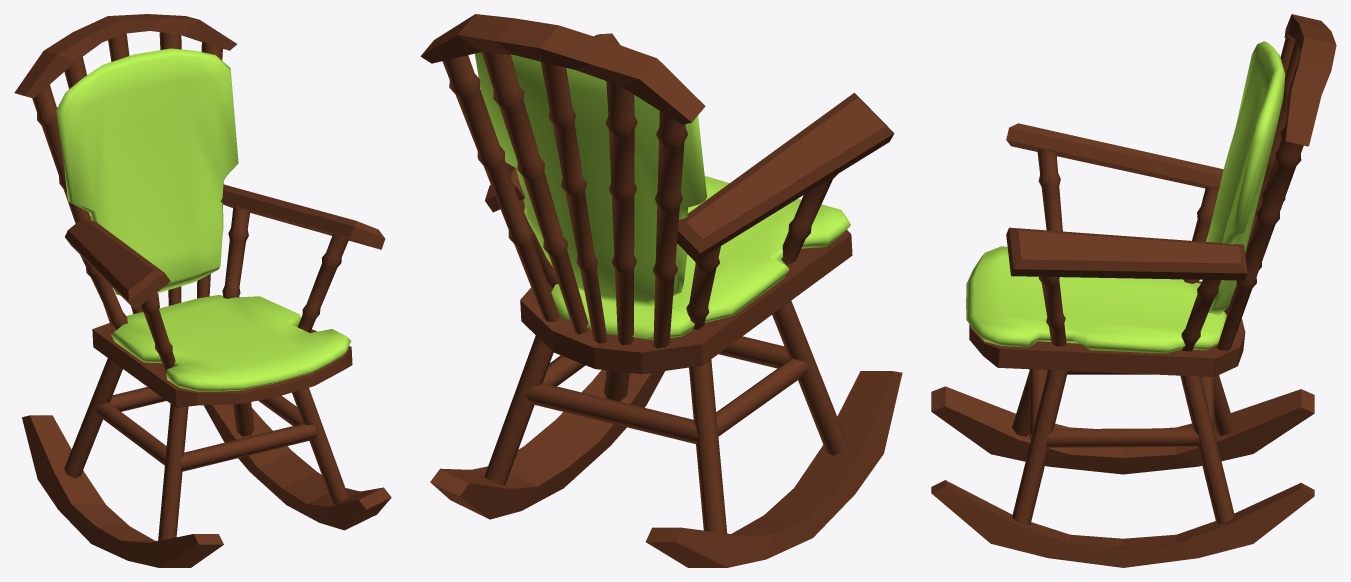
File: RChair.fbx
3 views of the same model, side by side, from view 1: azimuth 30°, elevation 25°; view 2: azimuth 150°, elevation 25°; view 3: azimuth 270°, elevation 25° (orthographic). The views are drawn at different scales.
Visible parts, largest first — view 1: Cadeira; view 2: Cadeira; view 3: Cadeira.
Boxes of the visible parts, x1,y1,x2,y2 form: Cadeira: [14, 14, 391, 567]; Cadeira: [420, 14, 902, 567]; Cadeira: [931, 14, 1336, 567].
Bounding box in the file's own units: 2.45 × 4.04 × 3.09.
Materials: 1 (1 with a texture image).
